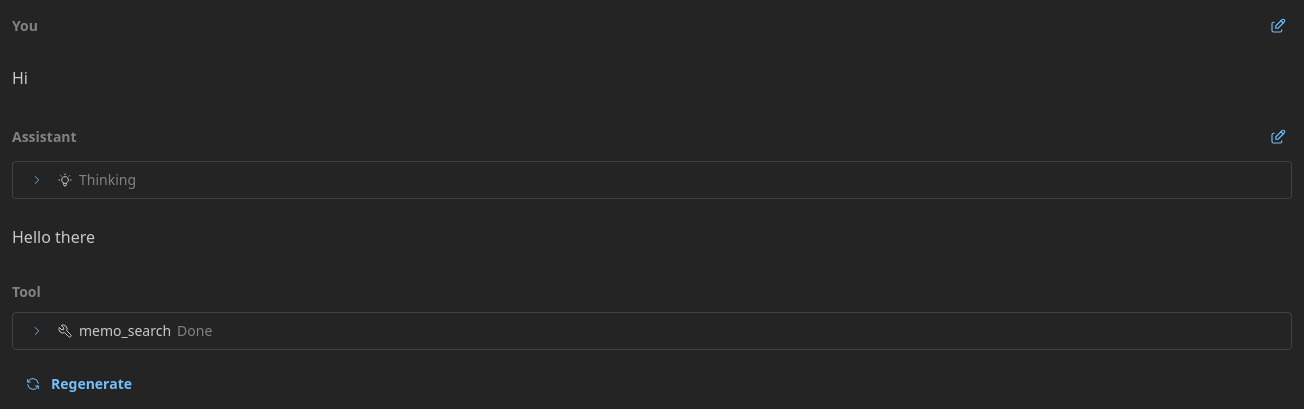
Test: ZoneMessage — the assistant editor holds the raw text (D10) › "Edit message" on the assistant item opens "Edit message text" holding the raw think-tagged text; Hello, friend + blur PATCHes exactly {"text":"Hello, friend"}
Click the button named "Edit message" in the row of "Assistant" at [1278, 137], box [1264,123,1292,151]
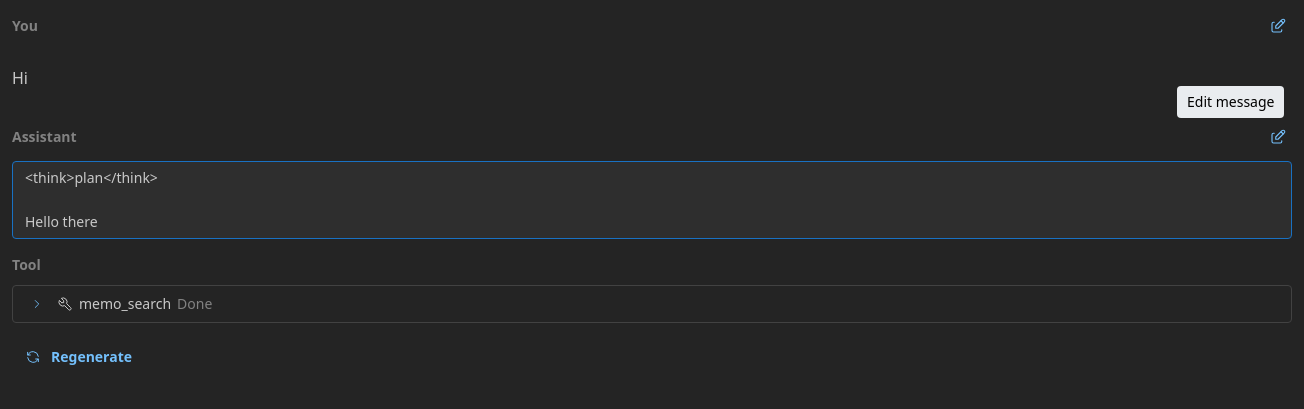
Replace the text in the text box named "Edit message text" with "Hello, friend" at [652, 200], box [12,161,1292,239]
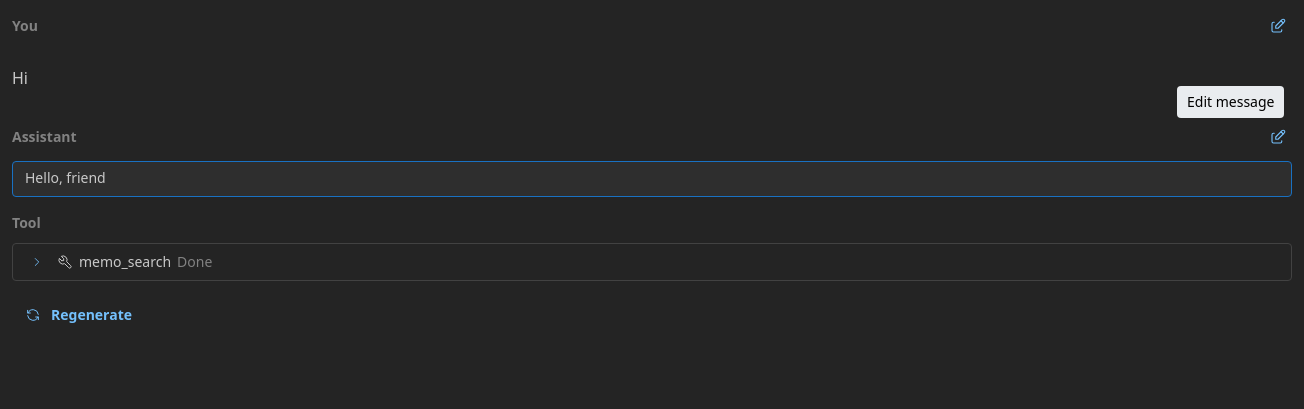
Leave the text box named "Edit message text", box [12,161,1292,197]
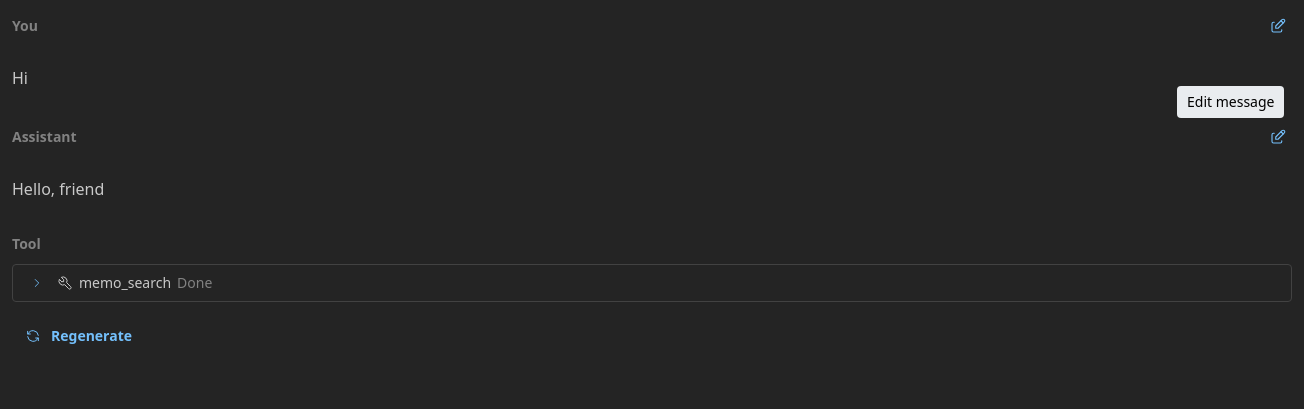
Expected: the text "Hello there" is not shown
Expected: the list item "Assistant Hello, friend" is shown, [12,123,1292,218]
